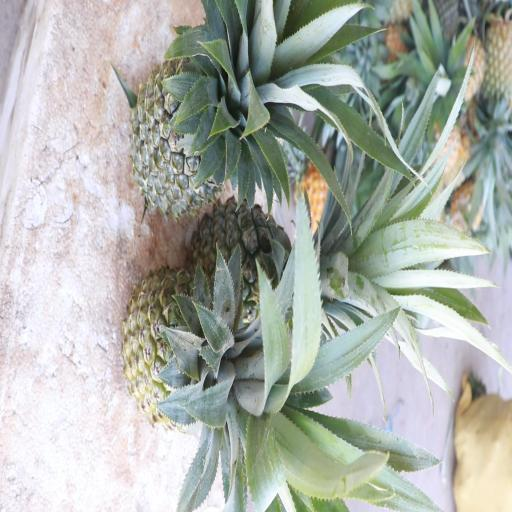------------------------------: (120, 259, 355, 441), (187, 192, 369, 333)
Pineapple - v8 v1: (484, 7, 512, 162)
